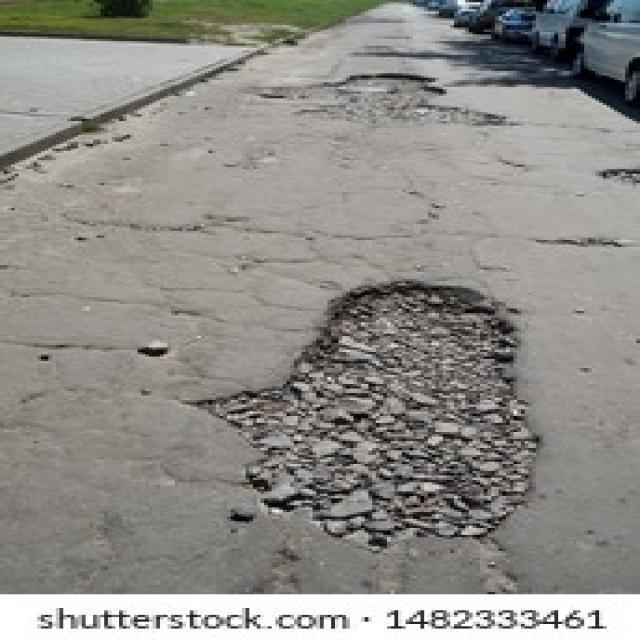Buraco: (178, 276, 550, 562), (236, 69, 510, 130), (593, 165, 640, 189)
